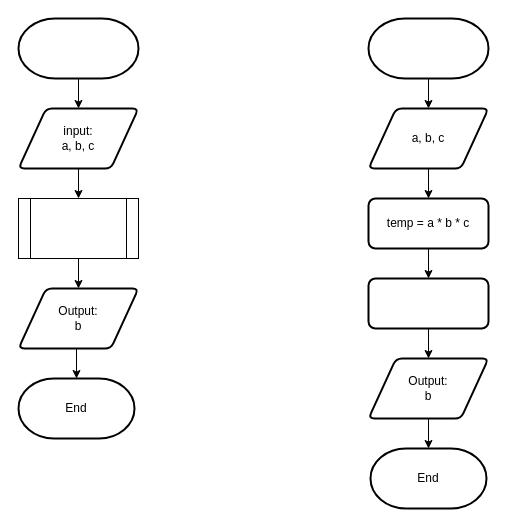
Some shapes in this 506 by 526 pixel diagram are drawn without their labels. The centre of each missing label's shape, as x and y in pixels:
"b = temp" belongs at (x=428, y=303).
"Start" belongs at (x=78, y=48).
"sum" belongs at (x=428, y=48).
"sum(a, b, c)" belongs at (x=78, y=228).
